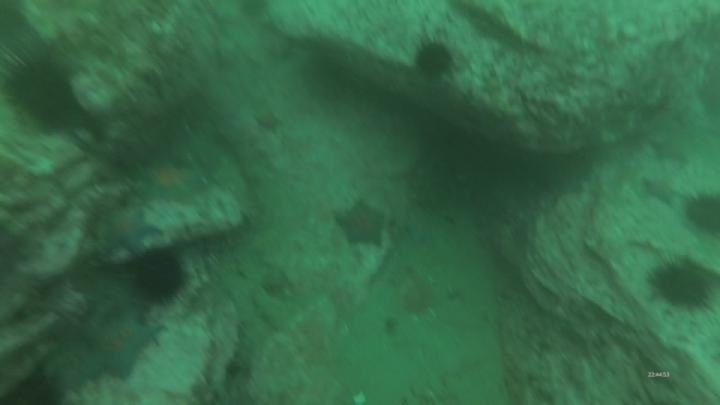echinus: (2, 49, 83, 133), (646, 255, 716, 313), (129, 247, 189, 306), (300, 48, 354, 104), (1, 363, 69, 404), (412, 38, 456, 81), (682, 189, 720, 237), (235, 0, 272, 22)
starfish: (78, 309, 166, 383), (135, 155, 207, 204), (98, 205, 162, 256), (332, 198, 390, 251), (647, 128, 694, 167), (639, 173, 683, 209), (251, 106, 284, 134)
